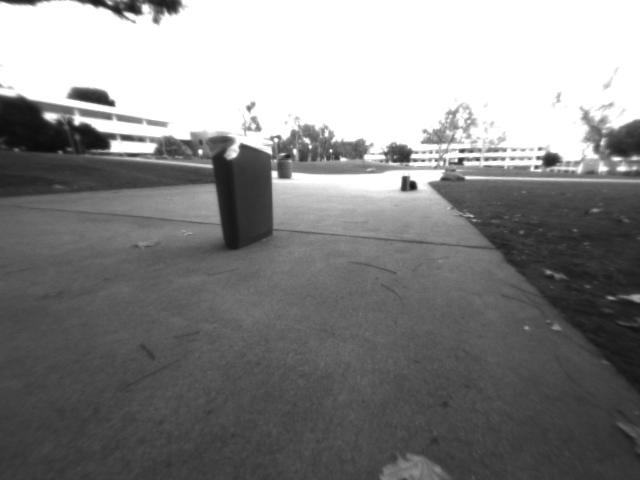trashcan_open: (204, 135, 277, 249)
